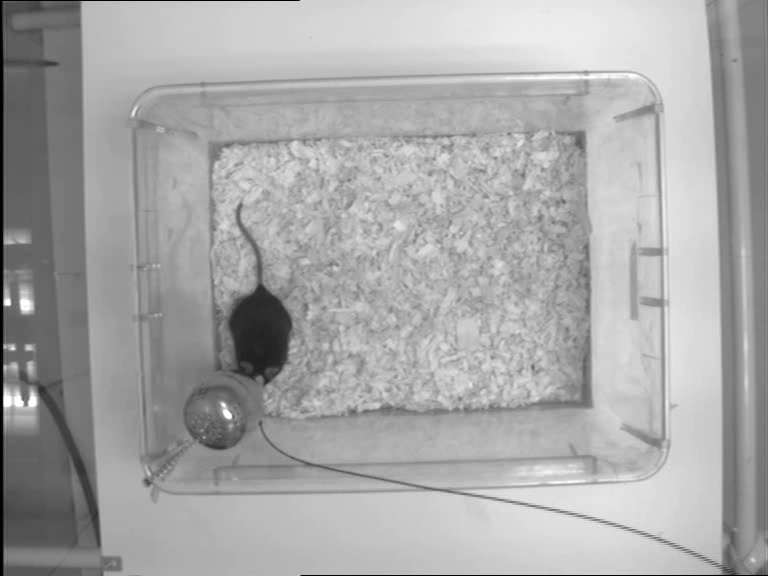mice: (227, 197, 292, 387)
